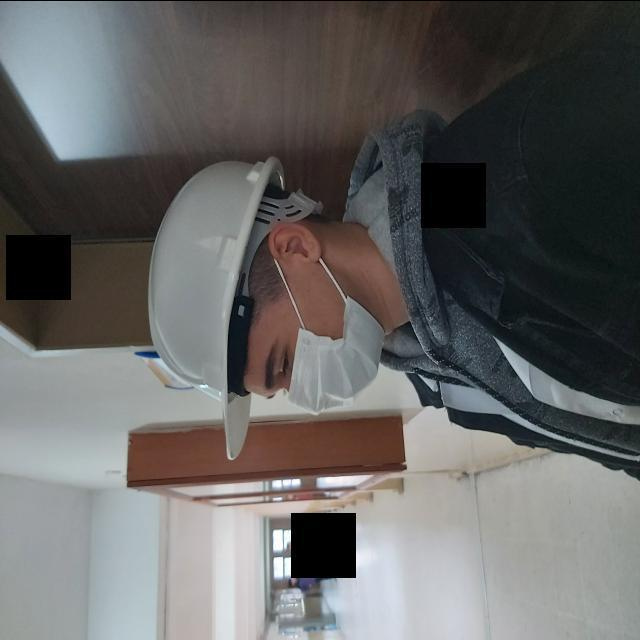helmet: (146, 154, 323, 460)
